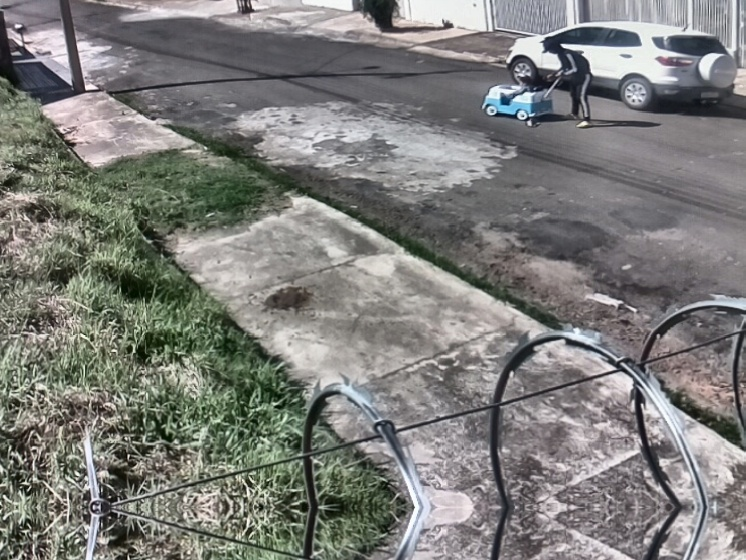person: (541, 40, 595, 128)
